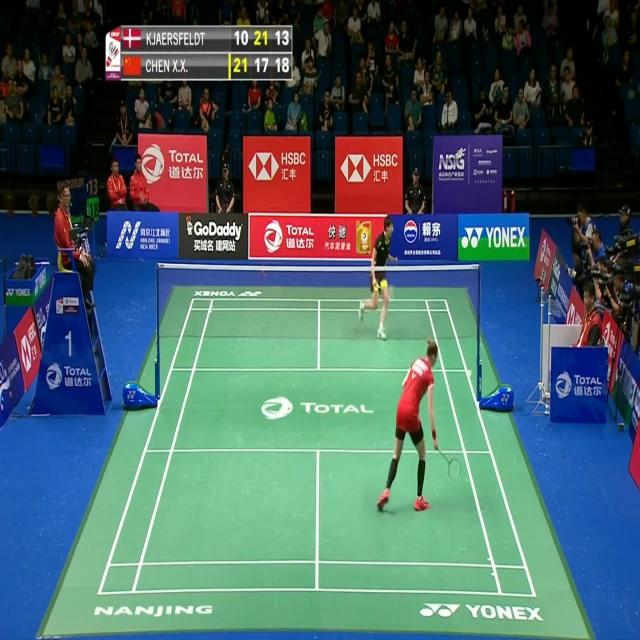Player1: (376, 335, 466, 517)
Player2: (356, 212, 399, 348)
